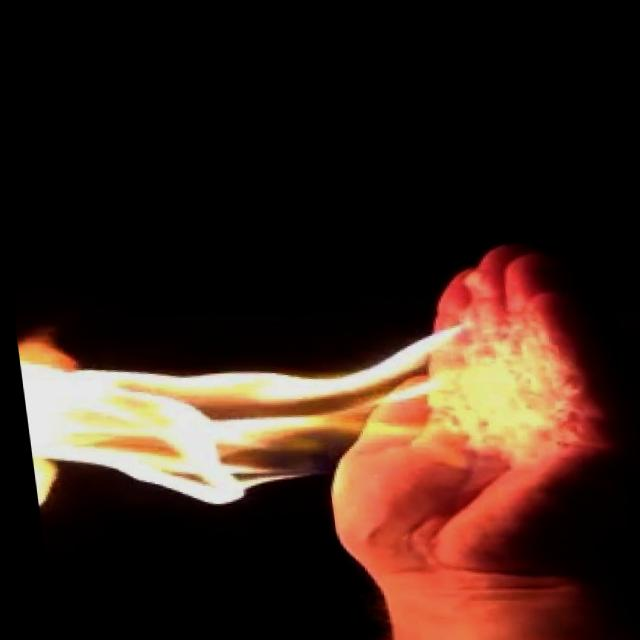helmet: (10, 277, 517, 550)
